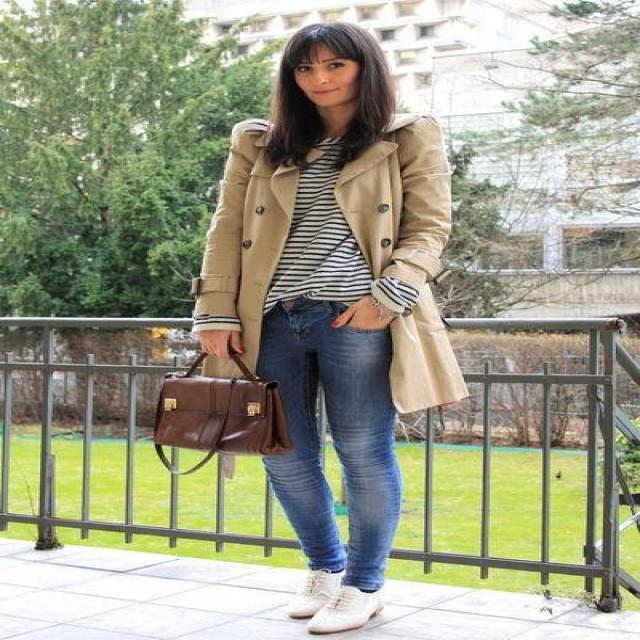bag: (136, 345, 286, 462)
jacket: (186, 90, 483, 412)
pants: (250, 291, 400, 592)
shirt: (267, 136, 370, 300)
shoe: (304, 576, 376, 626)
